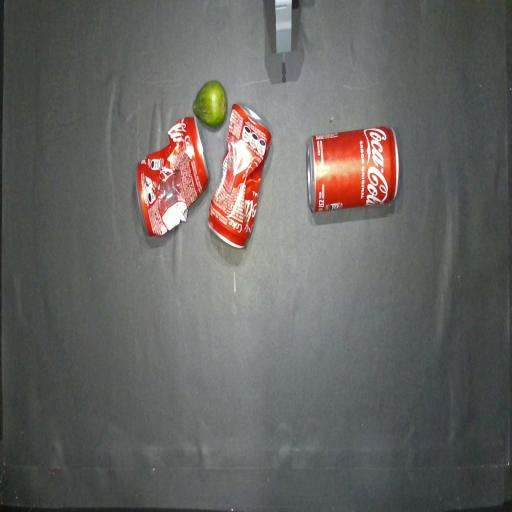higo: (193, 81, 227, 128)
lata: (306, 127, 399, 212)
lata_defectuoso: (209, 104, 271, 247), (136, 116, 209, 236)
